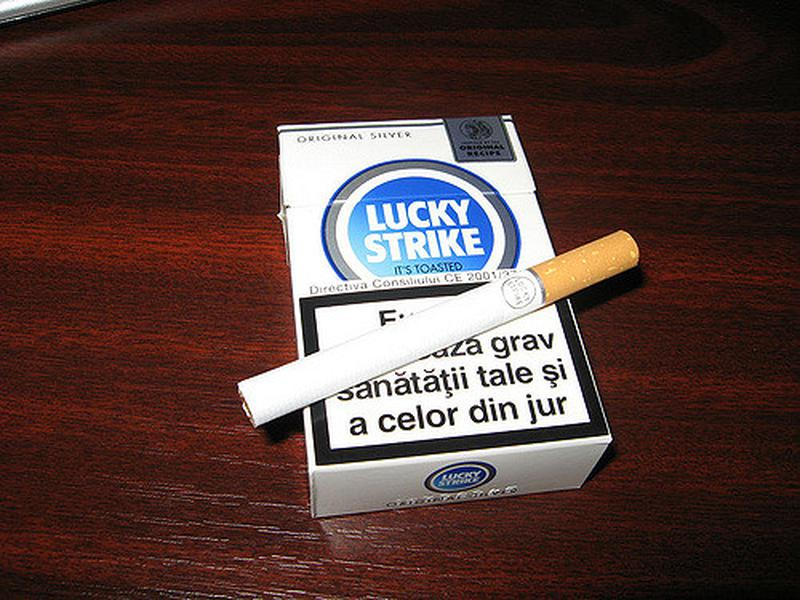lucky_strike_blue: (304, 125, 526, 441)
